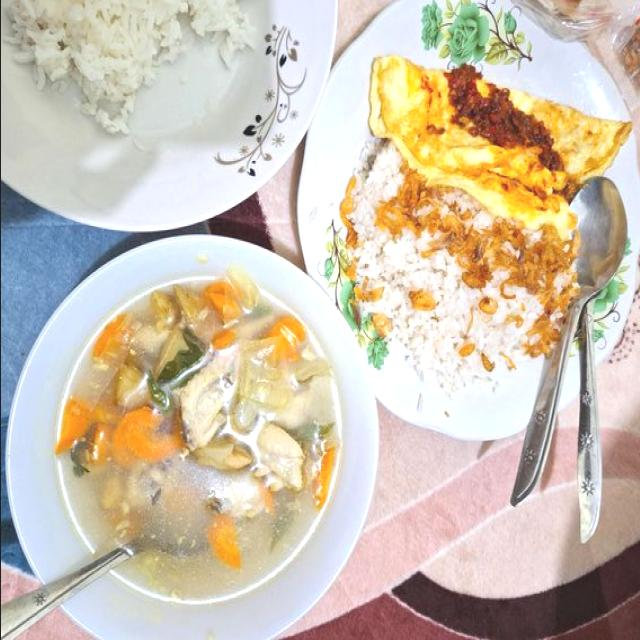sop: (42, 258, 340, 603)
